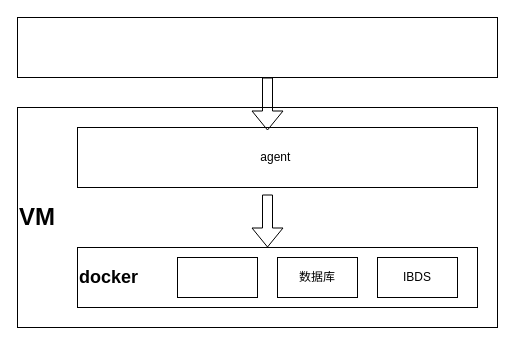
This 515x345 diagram has some shape labels left out. The centre of each missing label's shape, as x and y in pixels:
"Java App" goes at (x=257, y=47).
"区块链节点" goes at (x=217, y=277).
